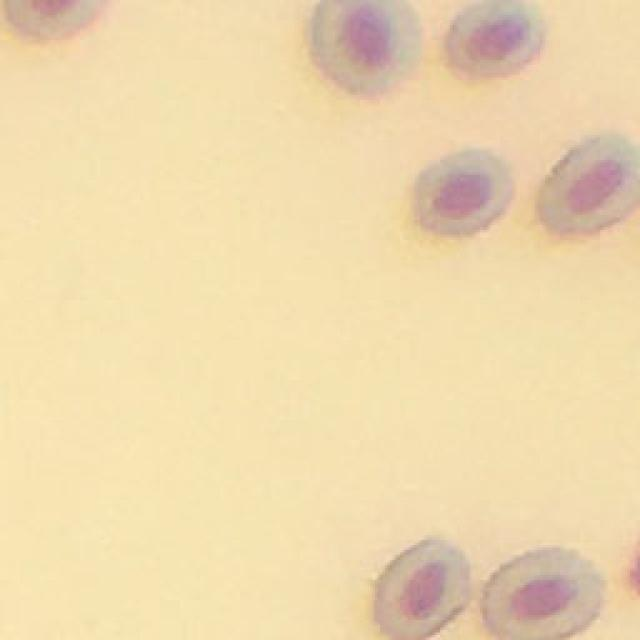RBC: (482, 548, 602, 640), (311, 0, 420, 94), (539, 135, 640, 235), (375, 539, 469, 640), (415, 150, 512, 234), (446, 0, 542, 76), (5, 1, 104, 39)
